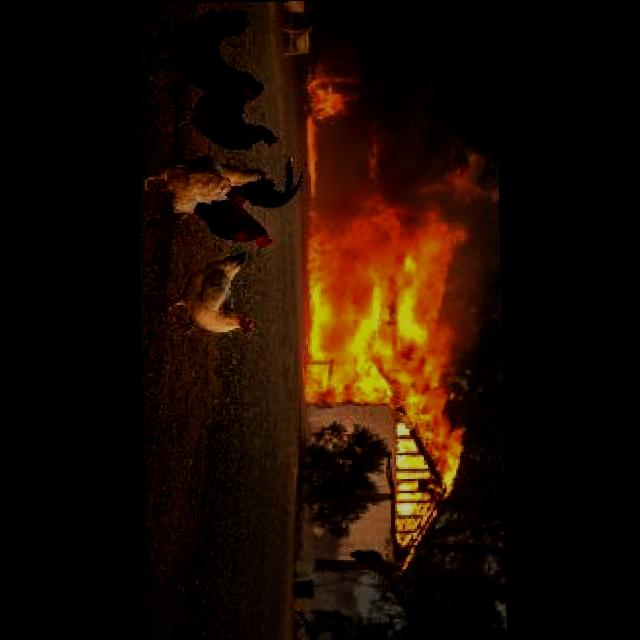helmet: (300, 201, 495, 586), (302, 64, 362, 202)
no_helmet: (299, 160, 462, 477)
